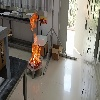fire: (29, 11, 41, 68)
